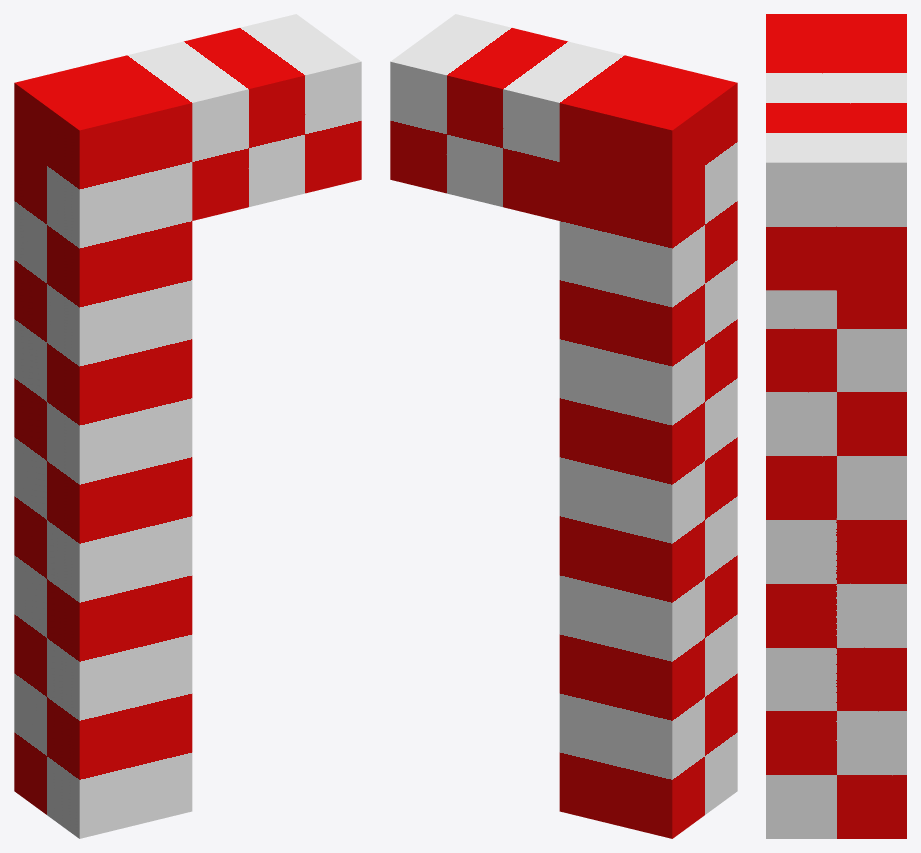
The model's file is Totem1.dae.
3 renders of one model, left to right at view 1: azimuth 30°, elevation 25°; view 2: azimuth 150°, elevation 25°; view 3: azimuth 270°, elevation 25°, orthographic. The views are drawn at different scales.
Parts seen in each view (by area): view 1: Totem1; view 2: Totem1; view 3: Totem1.
Part boxes in pixels (bbox=[...]): Totem1: bbox=[14, 14, 361, 838]; Totem1: bbox=[390, 14, 737, 838]; Totem1: bbox=[766, 14, 906, 838].
Size of the model in its own units: 5 by 12 by 2.
1 material, 1 textured.
